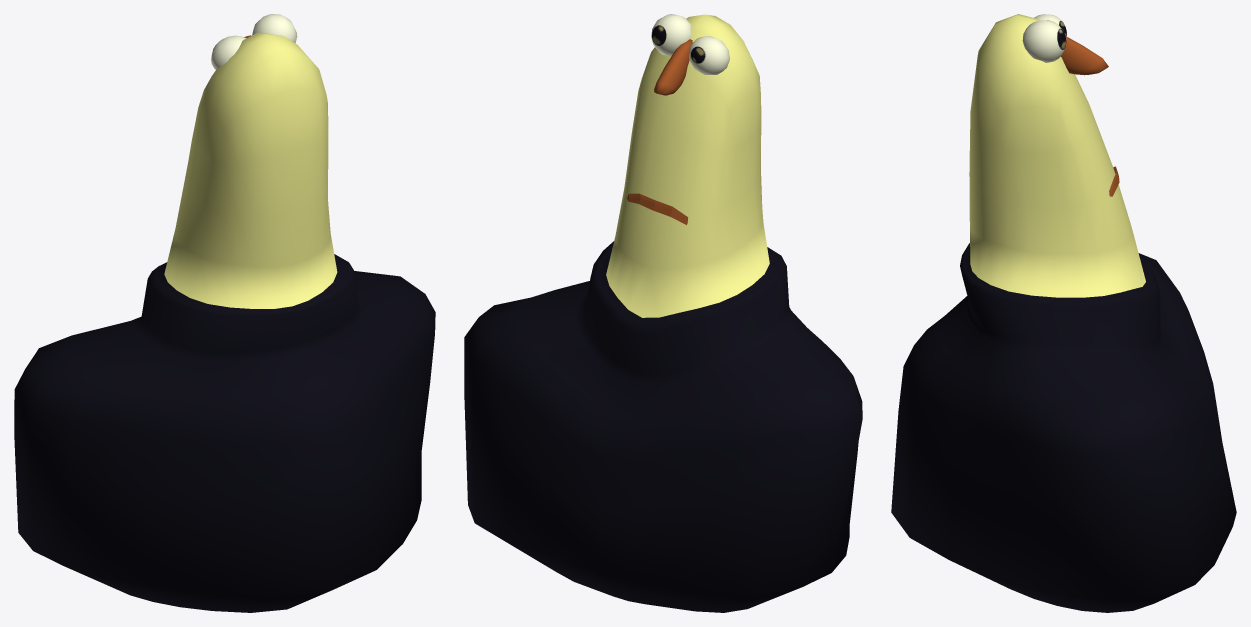
The model's file is giant_3.glb.
3 renders of one model, left to right at view 1: azimuth 30°, elevation 25°; view 2: azimuth 150°, elevation 25°; view 3: azimuth 270°, elevation 25°, orthographic. The views are drawn at different scales.
Parts seen in each view (by area): view 1: Cube.007; view 2: Cube.007; view 3: Cube.007.
Part boxes in pixels (box(x1,y1,x2,y2)): Cube.007: box(14, 14, 435, 612); Cube.007: box(464, 14, 862, 612); Cube.007: box(891, 14, 1236, 612).
Bounding box in the file's own units: 4.97 × 6.62 × 3.77.
1 material, 1 textured.
